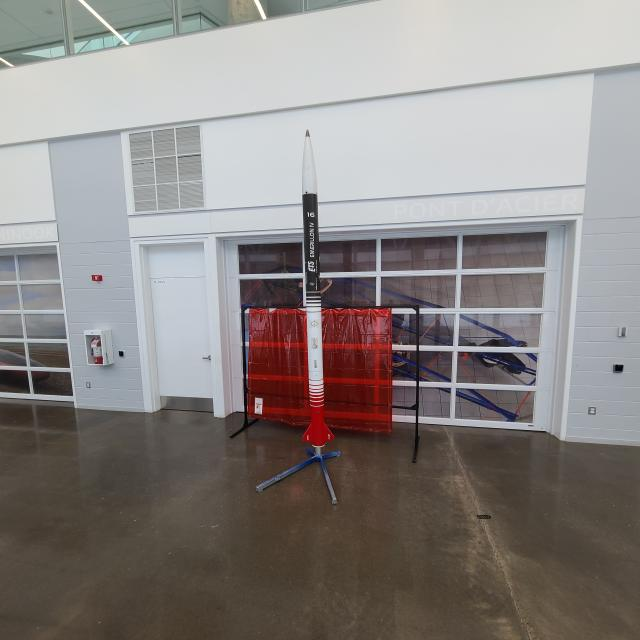Rocket: (302, 129, 334, 446)
